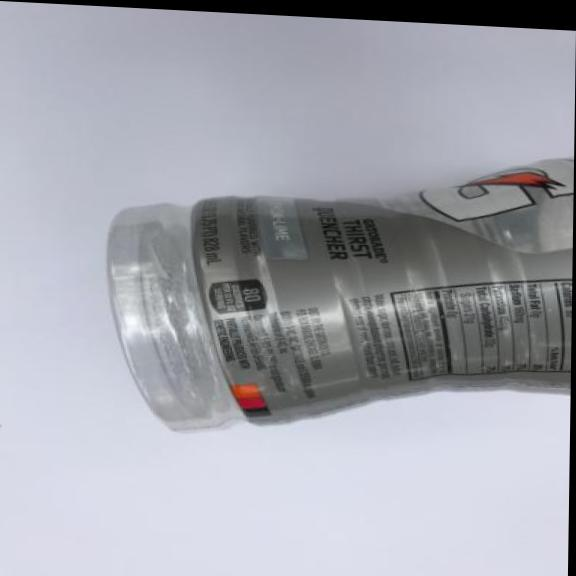Plastik: (81, 117, 574, 462)
